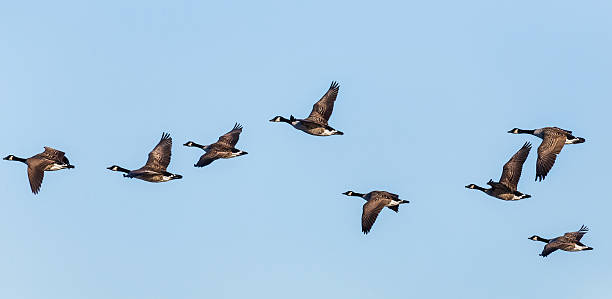goose: (267, 79, 346, 139), (507, 125, 589, 182), (463, 140, 536, 202), (104, 131, 184, 185), (2, 145, 76, 197), (340, 188, 412, 236), (181, 121, 249, 169), (526, 224, 594, 259)
